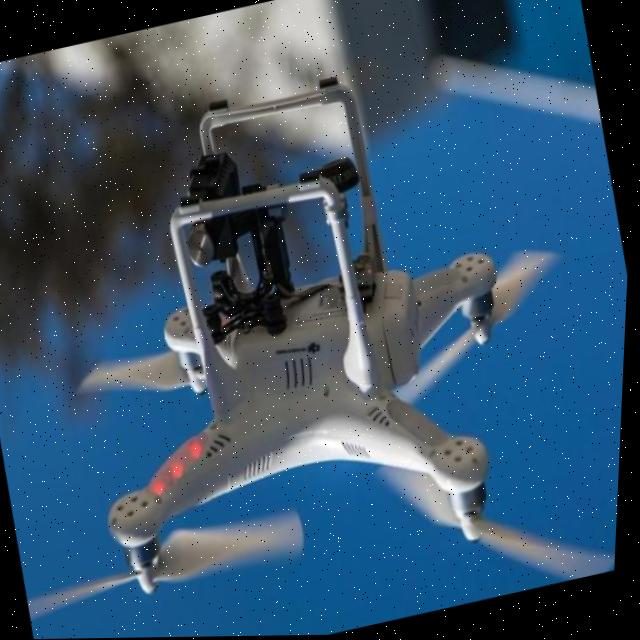drones: (0, 8, 639, 640)
